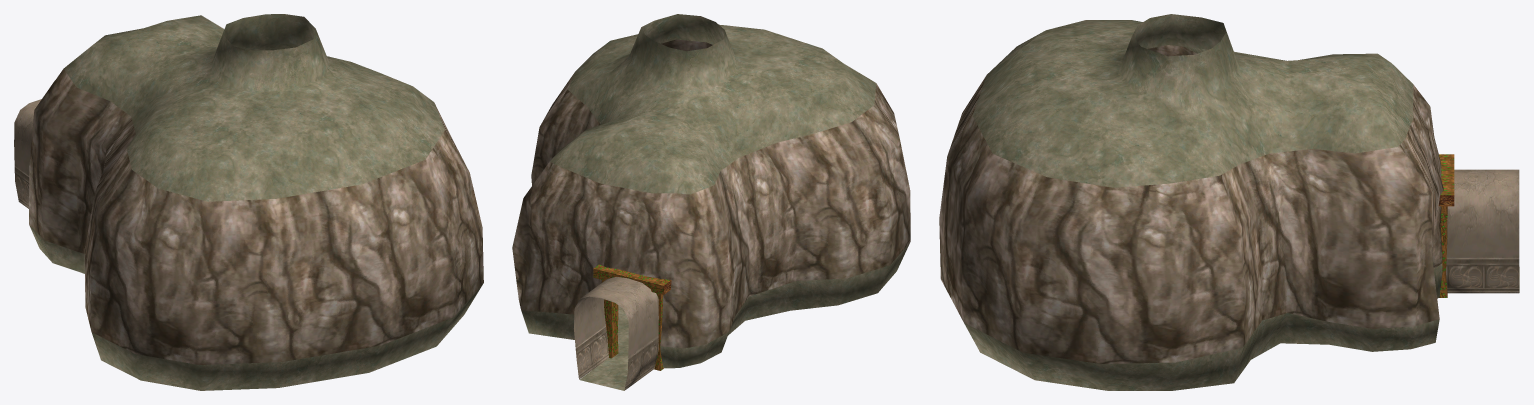
Rendered from EKH_GROTTO_PS_GR_SIDEROOM84736__GX.fbx.
The picture shows the model from 3 angles, left to right: view 1: azimuth 30°, elevation 25°; view 2: azimuth 150°, elevation 25°; view 3: azimuth 270°, elevation 25°; orthographic projection. The views are drawn at different scales.
Parts seen in each view (by area): view 1: EKH_GROTTO_PS_GR_SIDEROOM84736__GX; view 2: EKH_GROTTO_PS_GR_SIDEROOM84736__GX; view 3: EKH_GROTTO_PS_GR_SIDEROOM84736__GX.
Part boxes in pixels (x1,y1,x2,y2): EKH_GROTTO_PS_GR_SIDEROOM84736__GX: (14,14,483,390); EKH_GROTTO_PS_GR_SIDEROOM84736__GX: (512,14,910,390); EKH_GROTTO_PS_GR_SIDEROOM84736__GX: (939,14,1519,390).
Size of the model in its own units: 98359 by 67800 by 126468.
5 materials, 5 textured.
